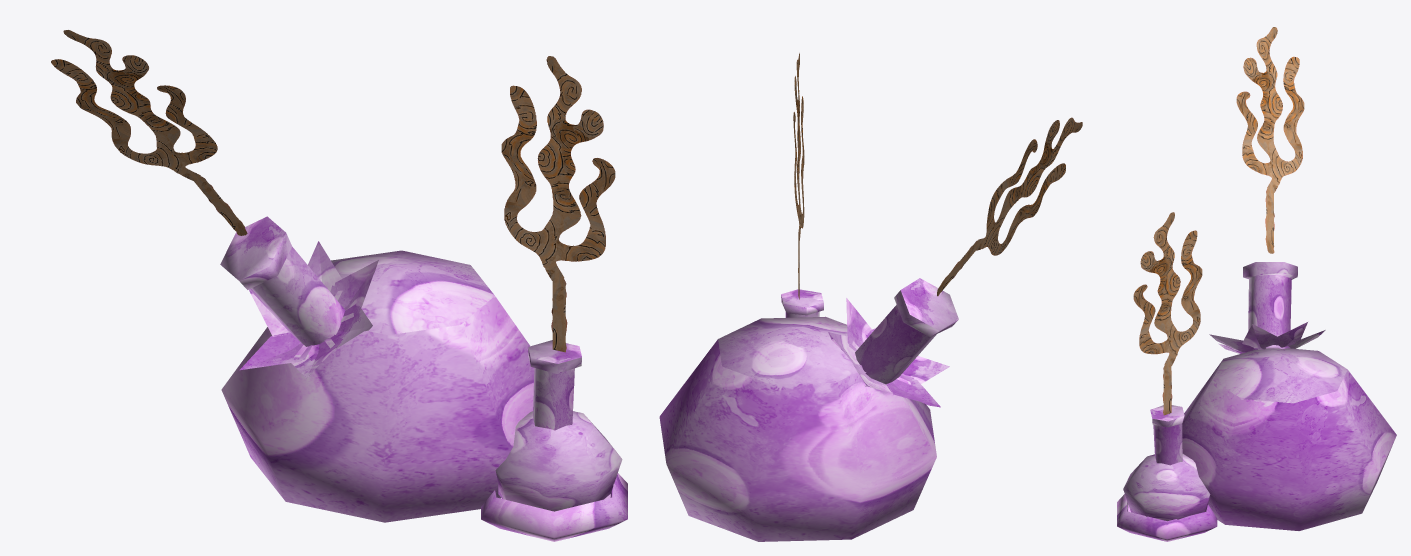
File: Flower_02_a_Art.glb
3 renders of one model, left to right at view 1: azimuth 30°, elevation 25°; view 2: azimuth 150°, elevation 25°; view 3: azimuth 270°, elevation 25°, orthographic. The views are drawn at different scales.
Visible parts, largest first — view 1: Flower_02_a_Art; view 2: Flower_02_a_Art; view 3: Flower_02_a_Art.
Boxes of the visible parts, bbox=[...] form: Flower_02_a_Art: bbox=[51, 30, 627, 541]; Flower_02_a_Art: bbox=[659, 53, 1082, 541]; Flower_02_a_Art: bbox=[1117, 27, 1396, 541].
Size of what is drawn, in the model's own units: 0.7931 by 0.8552 by 0.5494.
2 materials, 2 textured.
